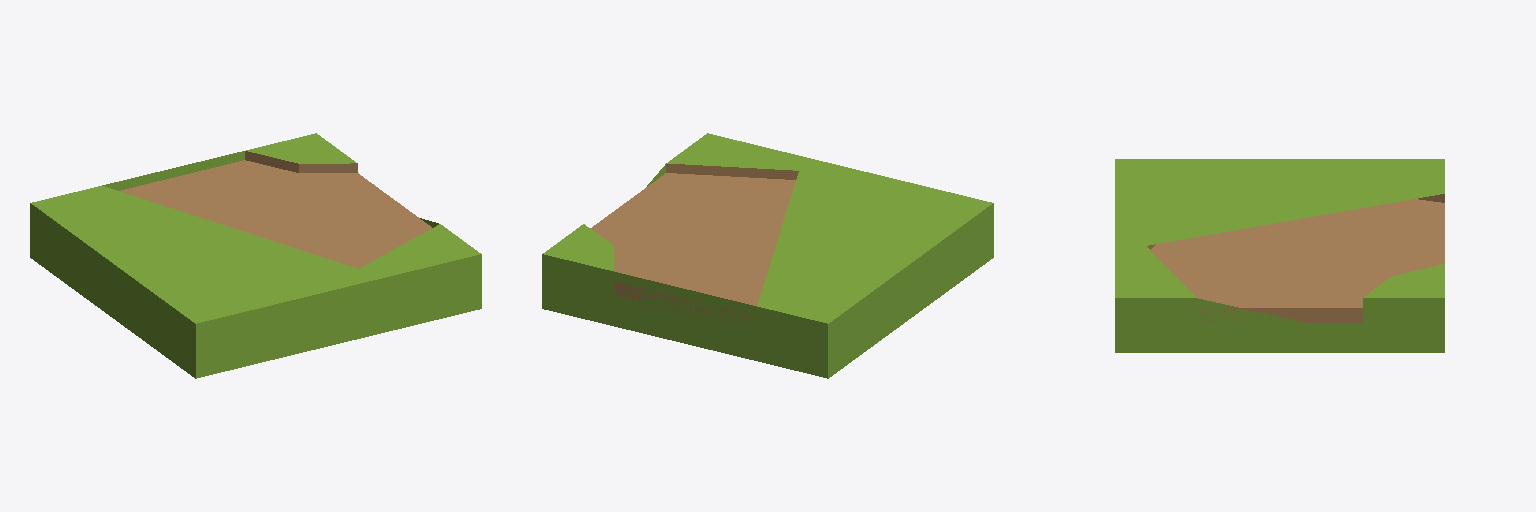
The model's file is corner.obj.
3 views of the same model, side by side, from view 1: azimuth 30°, elevation 25°; view 2: azimuth 150°, elevation 25°; view 3: azimuth 270°, elevation 25° (orthographic).
Visible parts, largest first — view 1: roadTile_016; view 2: roadTile_016; view 3: roadTile_016.
Part boxes in pixels (left/top/right/bottom): roadTile_016: left=30, top=133, right=481, bottom=378; roadTile_016: left=542, top=133, right=993, bottom=378; roadTile_016: left=1115, top=159, right=1444, bottom=352.
Bounding box in the file's own units: 3 × 0.55 × 3.